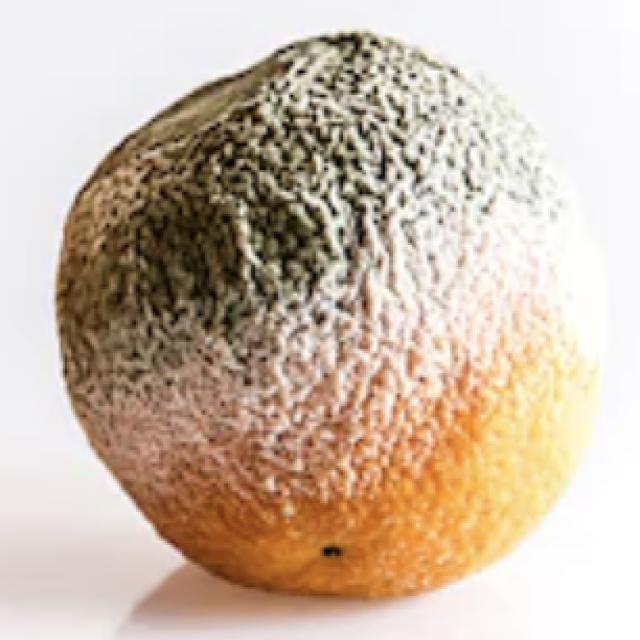sangat-busuk: (56, 32, 596, 597)
